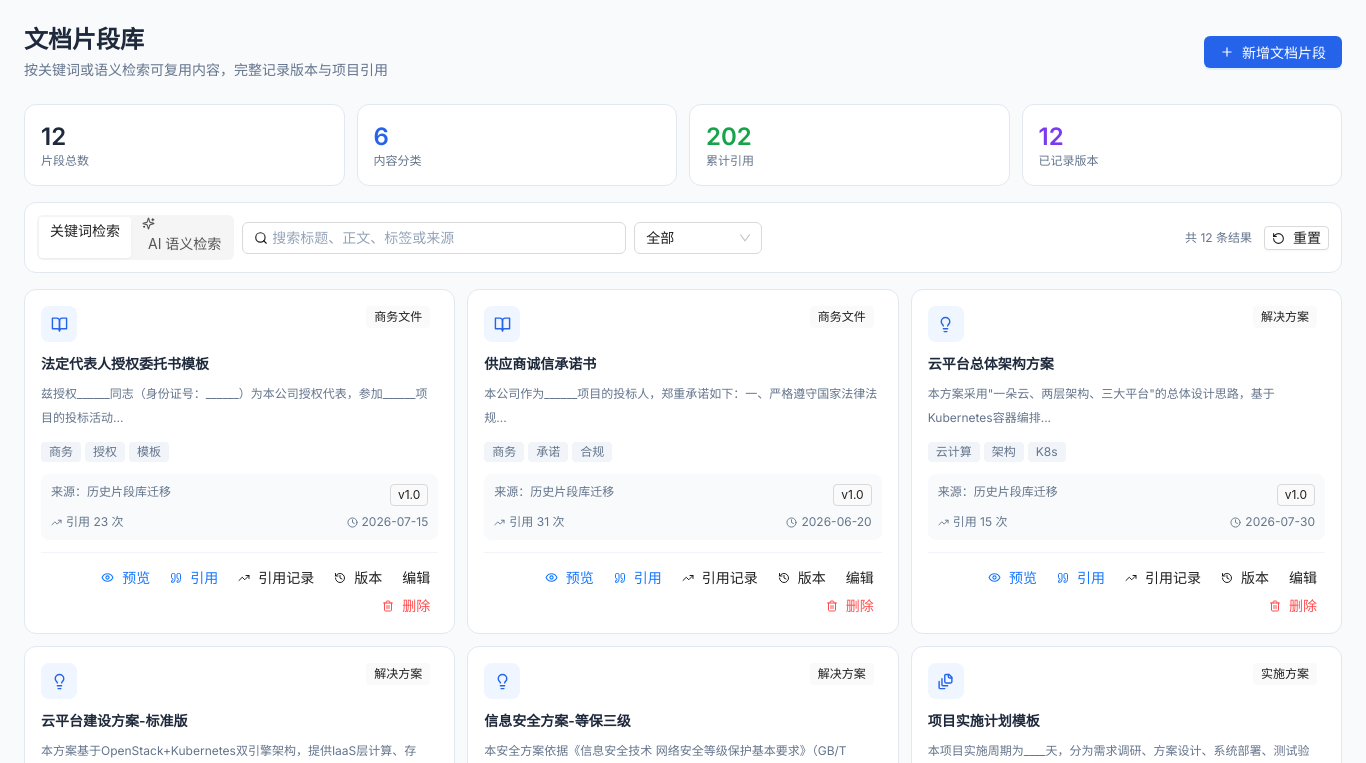
M3 page smoke and accessibility › switches the fragment library to semantic search
Click the text "AI 语义检索" at (185, 244), box [148, 235, 221, 252]
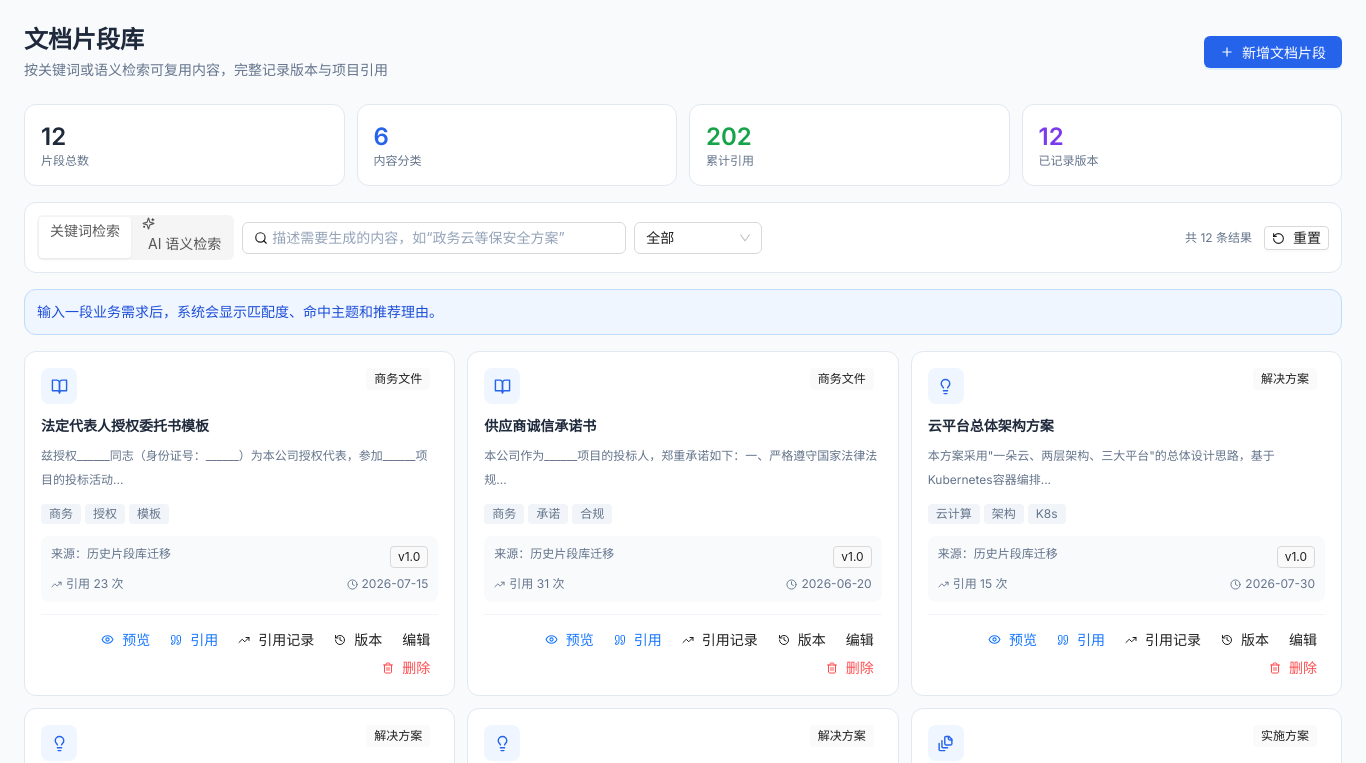
Type "政务云安全方案" into the field with placeholder "描述需要生成的内容，如“政务云等保安全方案”" at (435, 238), box [272, 226, 598, 248]
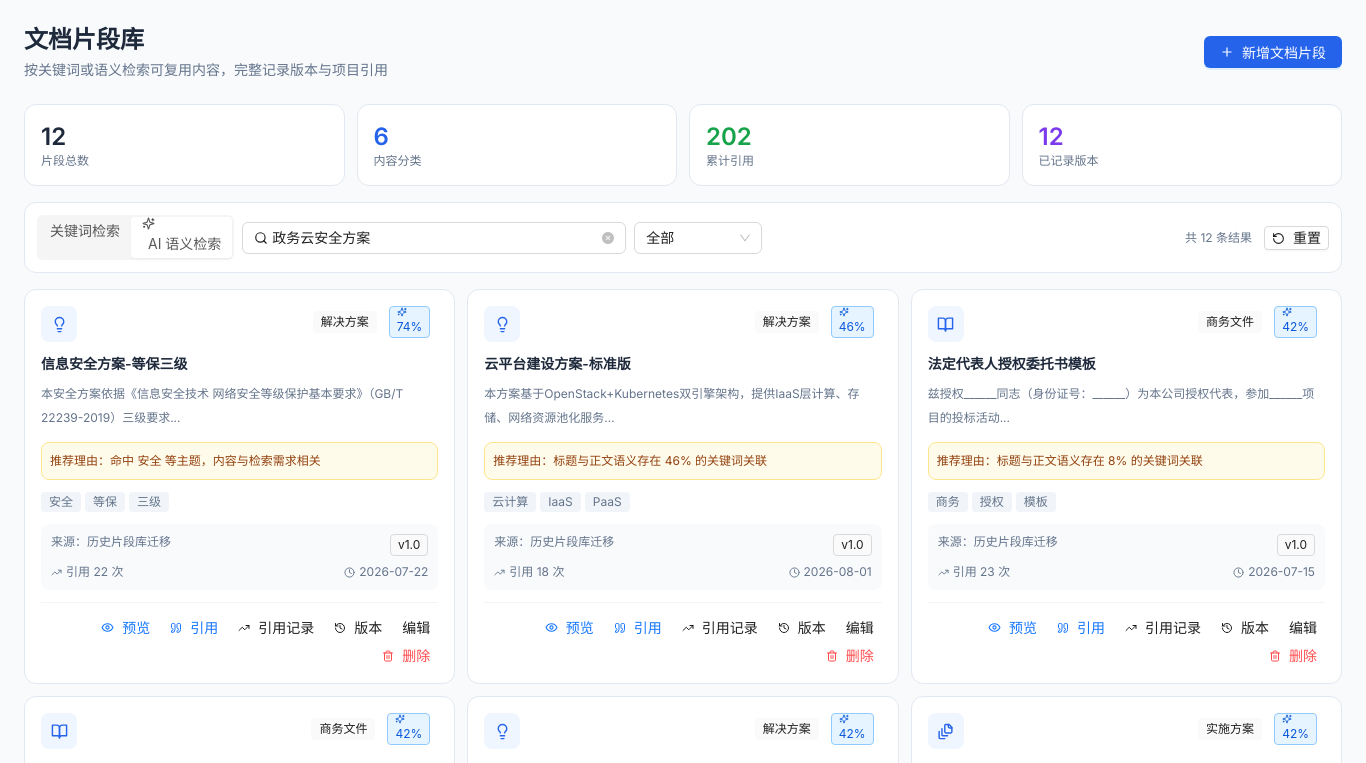
Expected: the element with test id "fragment-card" is shown, [24, 289, 455, 684]
Expected: the text "推荐理由：命中 安全 等主题，内容与检索需求相关" is shown, [41, 442, 438, 480]
